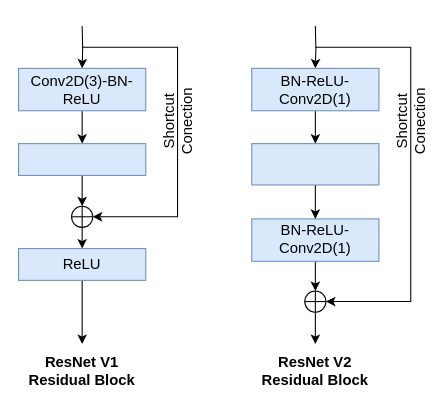
This 447x407 diagram has some shape labels left out. Each missing label, with the centre of its shape:
BN-ReLU-Conv2D(3): the point at 315,164
Conv2D(3)-BN: the point at 81,159
